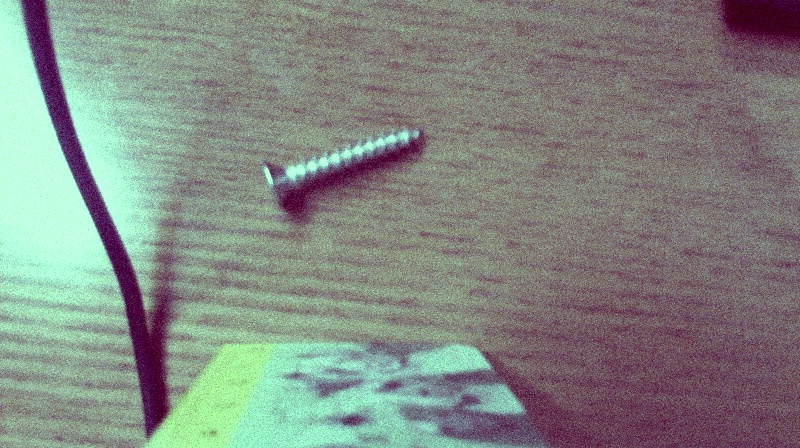S001: (259, 123, 426, 212)
